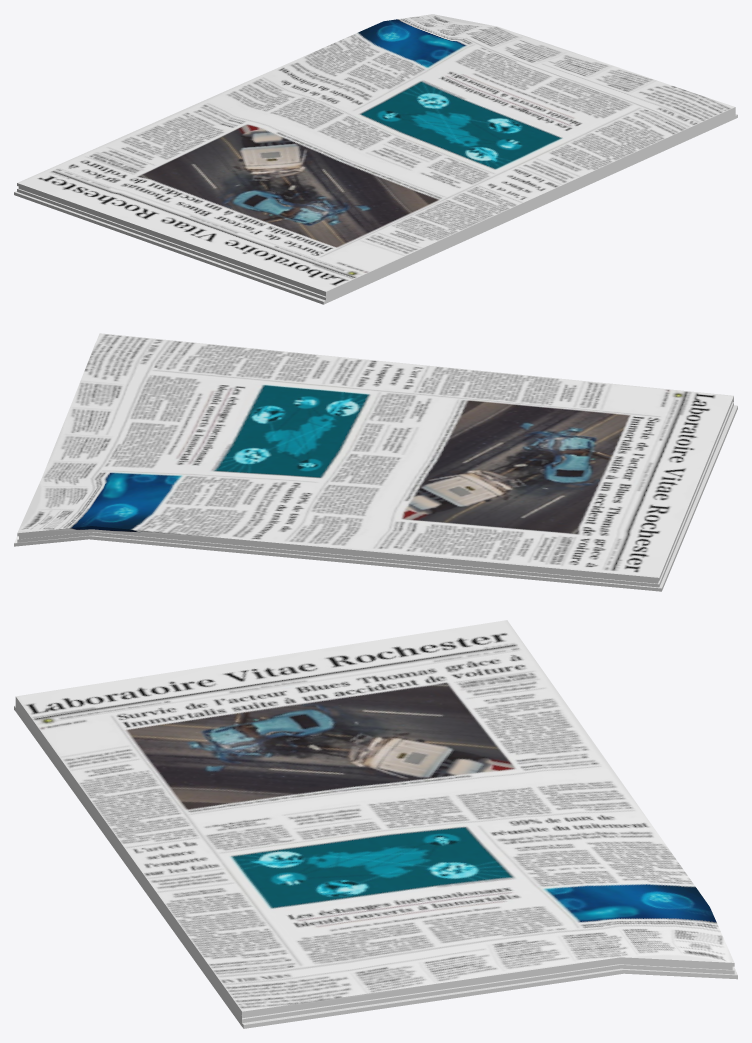
The model's file is Journal_table.fbx.
The picture shows the model from 3 angles, top to bottom: view 1: azimuth 30°, elevation 25°; view 2: azimuth 150°, elevation 25°; view 3: azimuth 270°, elevation 25°; orthographic projection. The views are drawn at different scales.
Parts seen in each view (by area): view 1: journal_1; view 2: journal_1; view 3: journal_1.
Part boxes in pixels (<box>): journal_1: <box>14,14,737,304</box>; journal_1: <box>14,333,737,591</box>; journal_1: <box>14,620,737,1028</box>.
Size of the model in its own units: 0.5986 by 0.4633 by 0.028.
